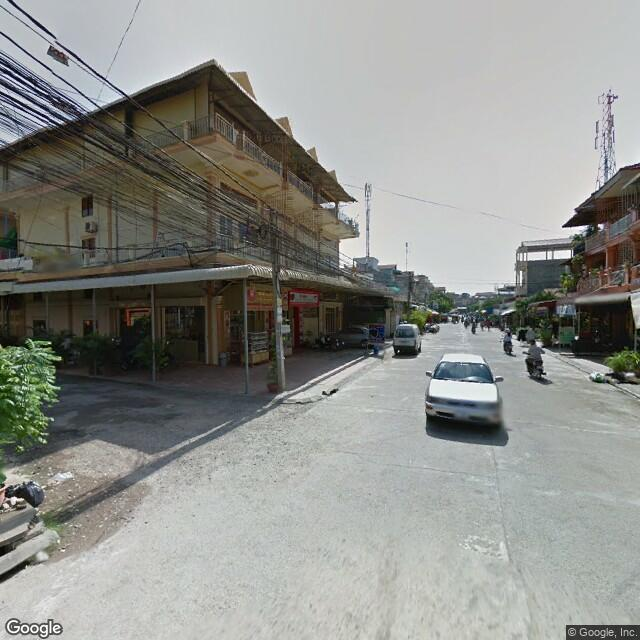litter: (38, 465, 80, 487)
